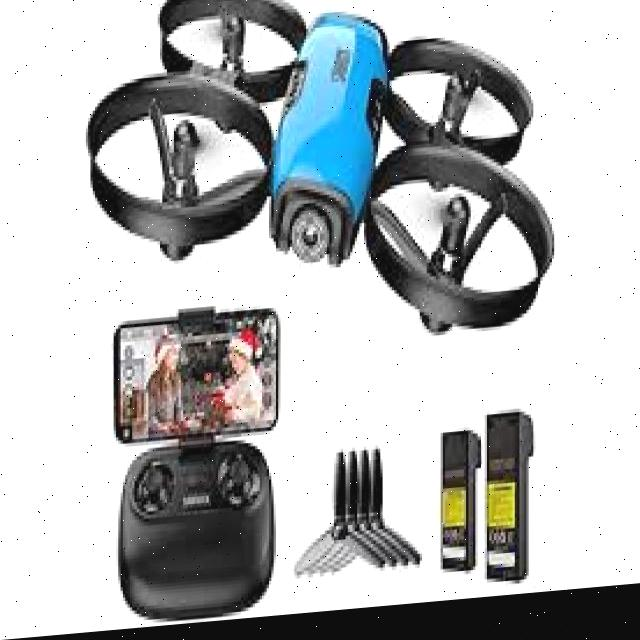drone: (70, 0, 576, 387)
